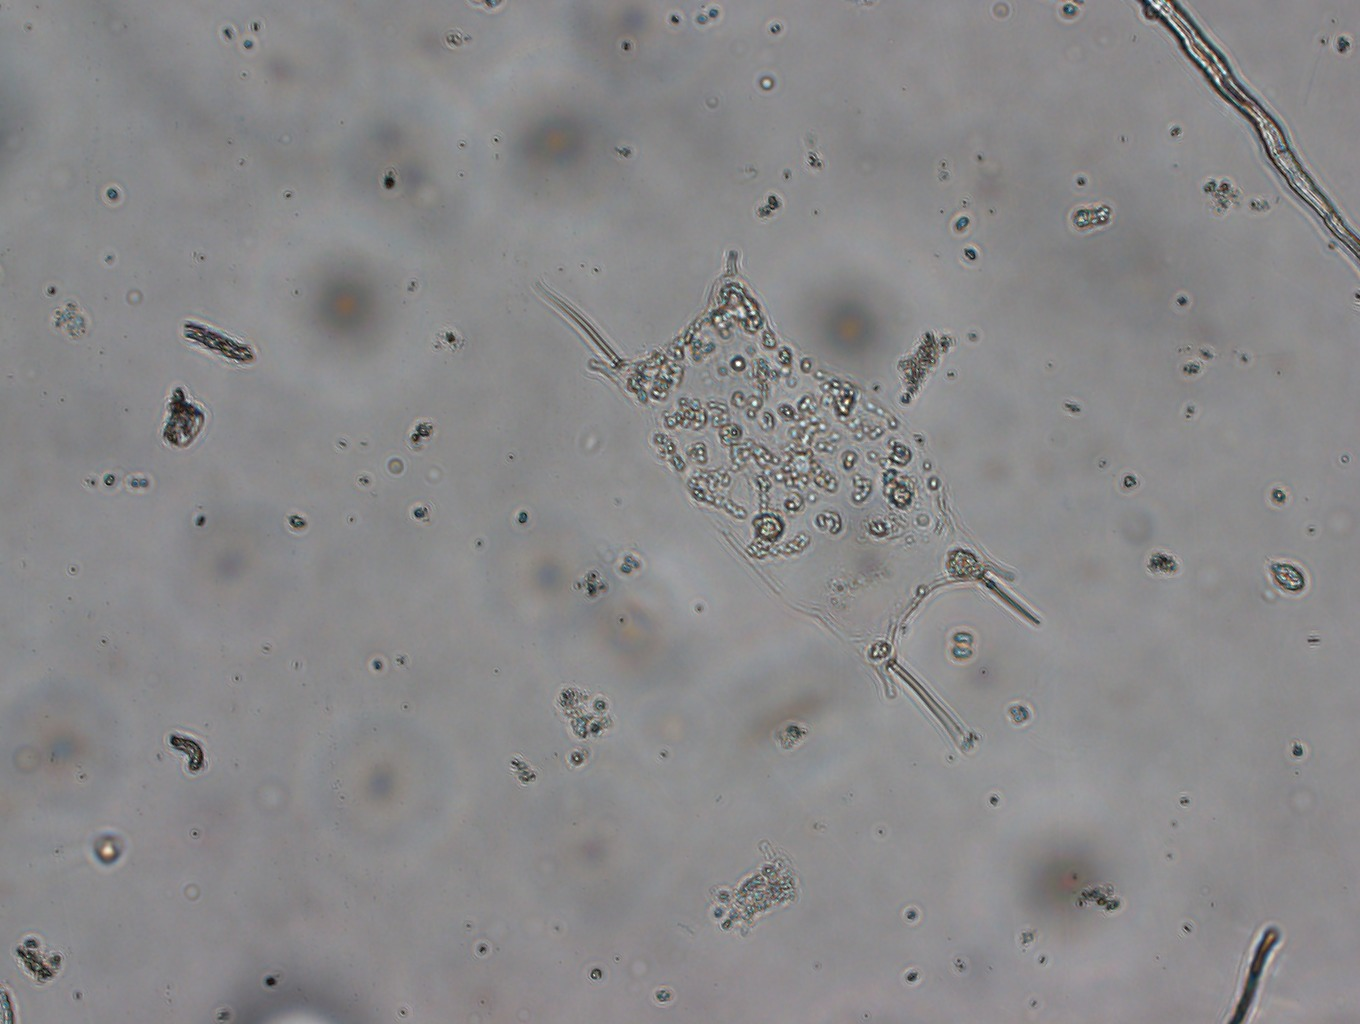biddulphia: (541, 233, 1055, 749)
